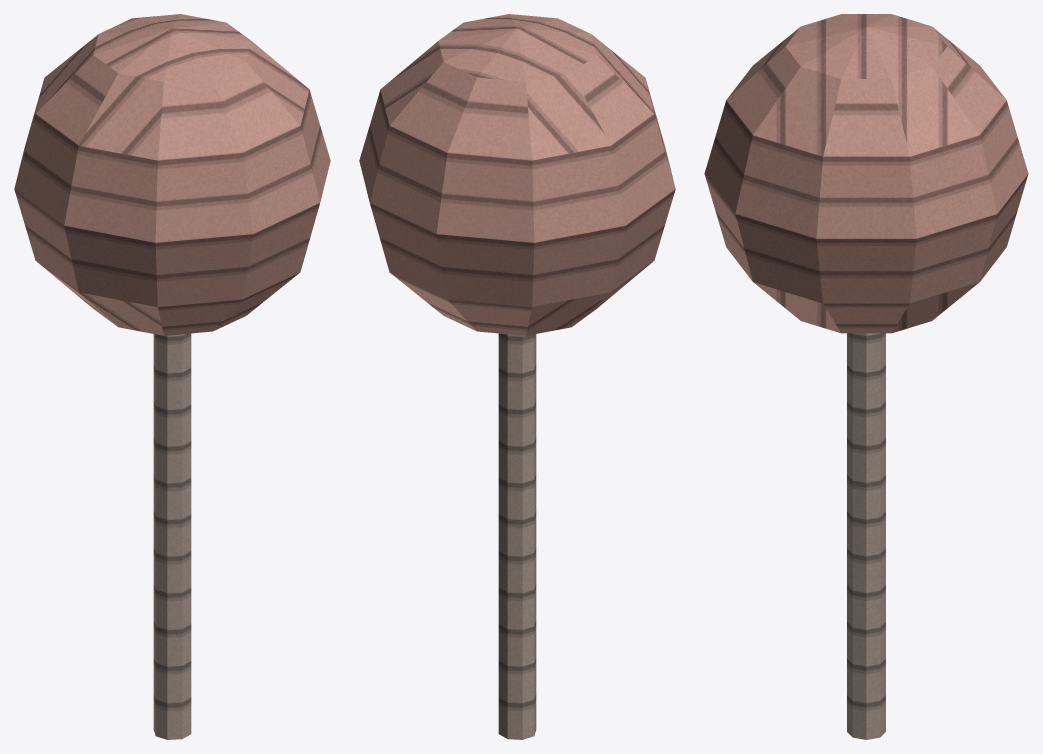
File: tree_young_replacement_sapling.glb
3 views of the same model, side by side, from view 1: azimuth 30°, elevation 25°; view 2: azimuth 150°, elevation 25°; view 3: azimuth 270°, elevation 25° (orthographic).
Visible parts, largest first — view 1: tree_young_replacement_sapling-col; view 2: tree_young_replacement_sapling-col; view 3: tree_young_replacement_sapling-col.
Part boxes in pixels (left/top/right/bottom): tree_young_replacement_sapling-col: left=14, top=14, right=330, bottom=739; tree_young_replacement_sapling-col: left=359, top=14, right=675, bottom=739; tree_young_replacement_sapling-col: left=704, top=14, right=1028, bottom=739.
Size of the model in its own units: 0.9511 by 2.4 by 1.
Materials: 2 (2 with a texture image).
